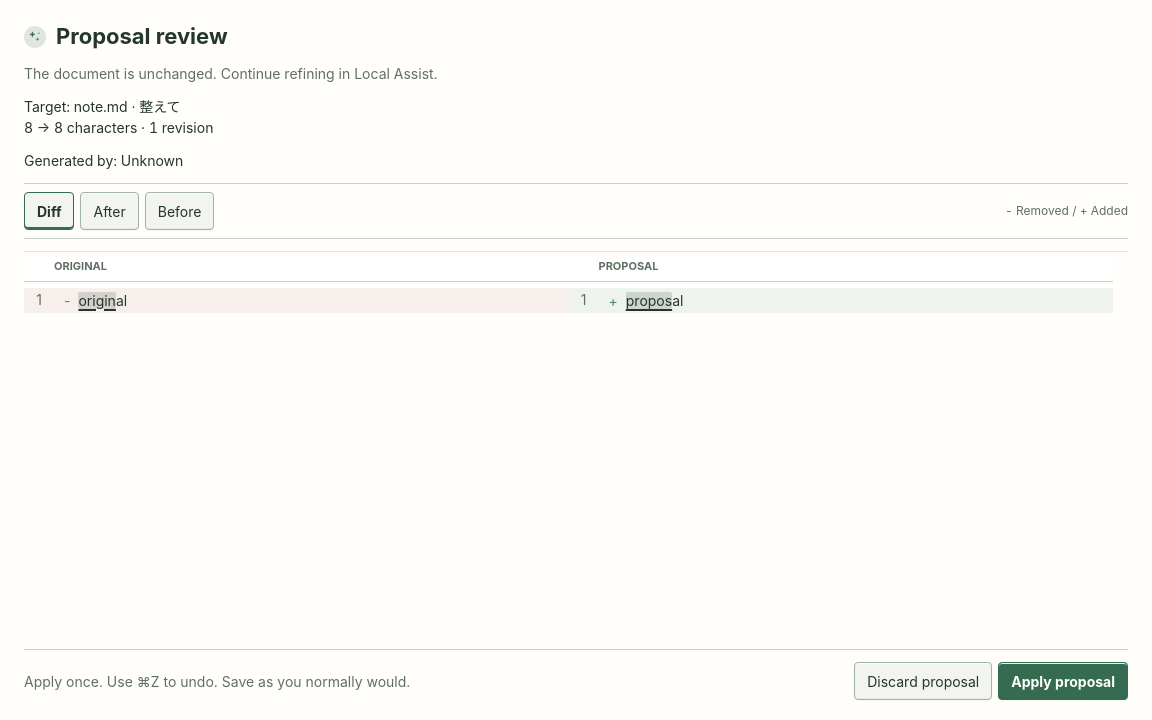
LocalAssistProposalReview › shows an inline error when apply is rejected
The width and height of the screenshot is (1152, 720).
Click the button "Apply proposal": (1063, 681) 998,662 -> 1128,700
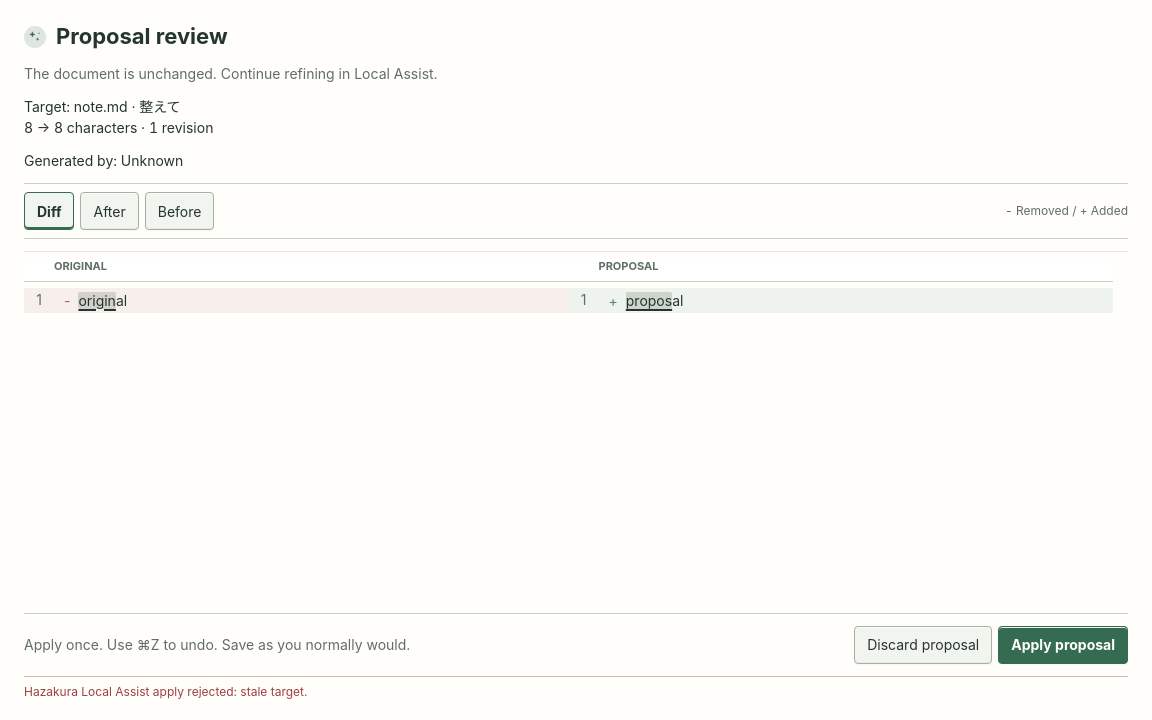
Expected: the message with test id "local-assist-proposal-review-error" shows "stale target", 24,684 -> 308,699
